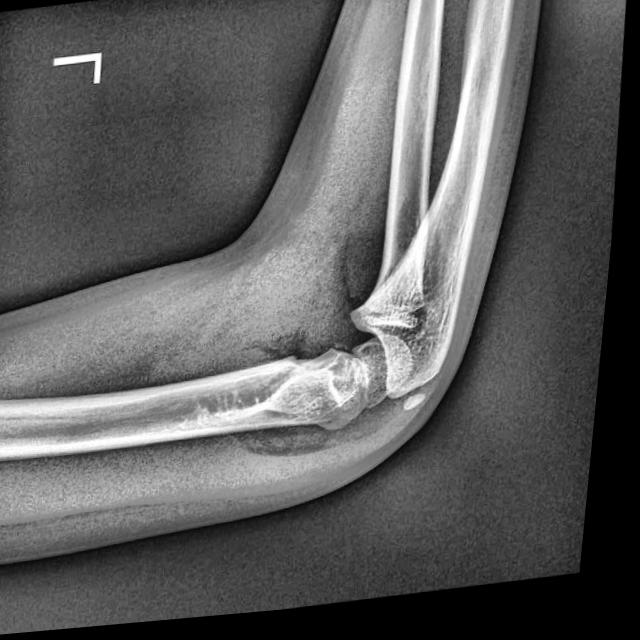fracture: (181, 361, 316, 434)
